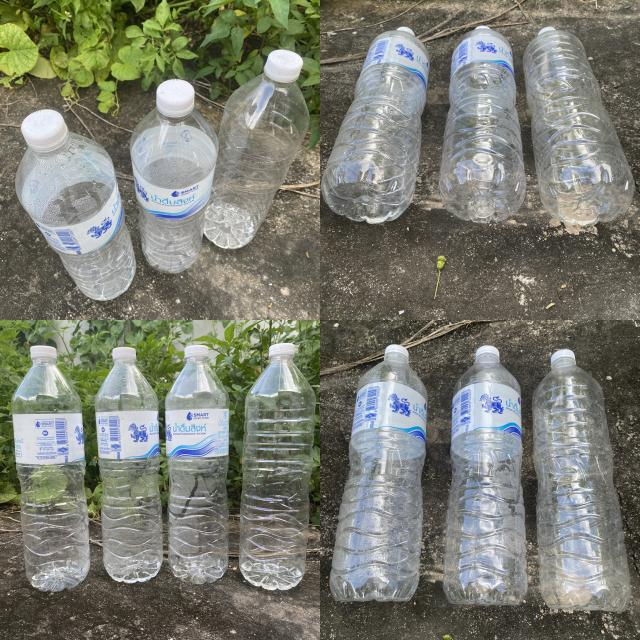plastik: (532, 349, 631, 611), (330, 345, 428, 601), (15, 109, 136, 301), (522, 26, 635, 226), (444, 345, 528, 604), (321, 26, 429, 224), (204, 50, 309, 249), (11, 346, 90, 592), (239, 344, 315, 590), (130, 79, 219, 274), (439, 26, 526, 223), (95, 348, 162, 583), (165, 345, 229, 584)
